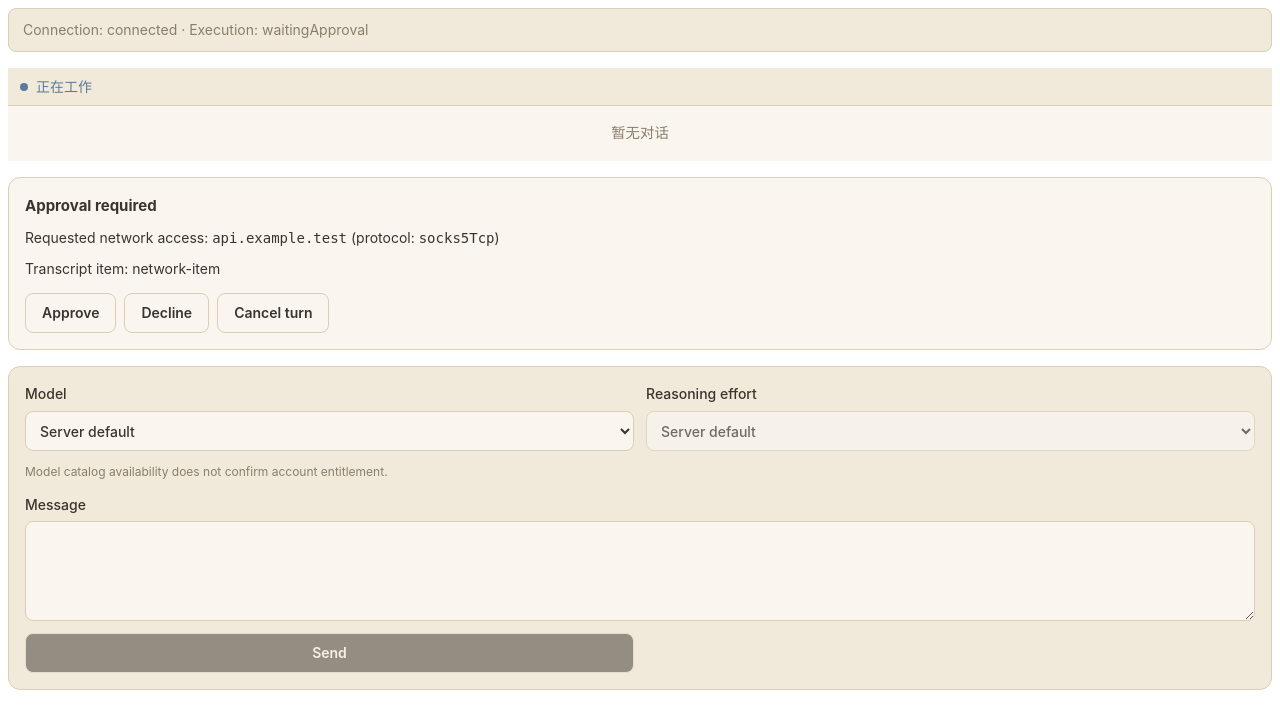
Test: CodexSession › shows a context-only socks5Tcp network approval and preserves reply identity
expect the element named "Request network-request" shows "Transcript item: network-item": met, box [8,177,1272,350]
expect the button "Approve" is enabled: met, box [25,293,116,333]
Click the button "Cancel turn" at (273, 313), box [217,293,329,333]
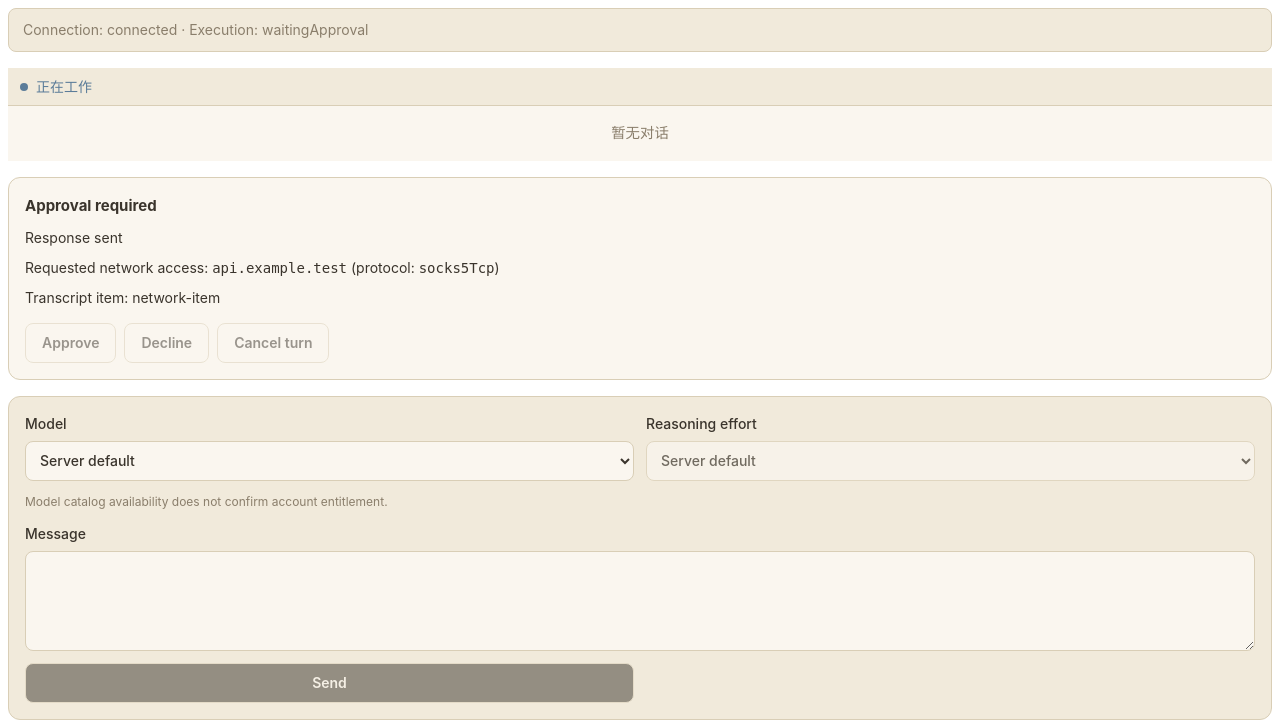
expect the text "Response sent" is shown: met, box [25,229,122,246]
expect the button "Cancel turn" is disabled: met, box [217,323,329,363]
